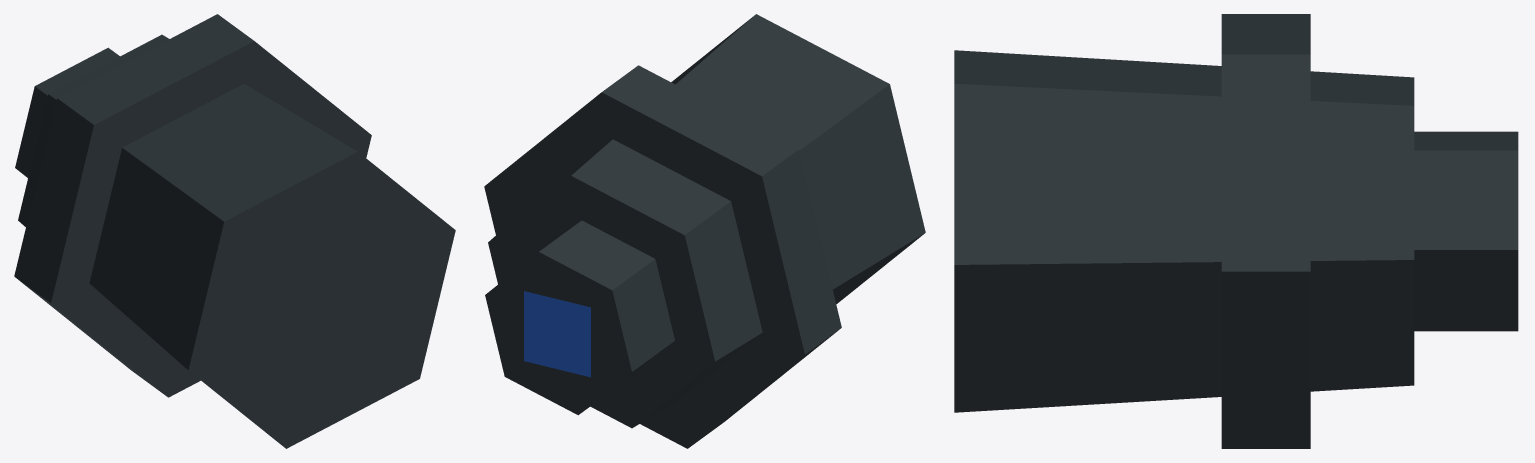
3 renders of one model, left to right at view 1: azimuth 30°, elevation 25°; view 2: azimuth 150°, elevation 25°; view 3: azimuth 270°, elevation 25°, orthographic. The views are drawn at different scales.
Visible parts, largest first — view 1: mount; view 2: mount; view 3: mount.
Part boxes in pixels (x1,y1,x2,y2): mount: (14,14,455,448); mount: (484,14,925,448); mount: (954,14,1518,448).
Bounding box in the file's own units: 6.03 × 6.03 × 7.63.
